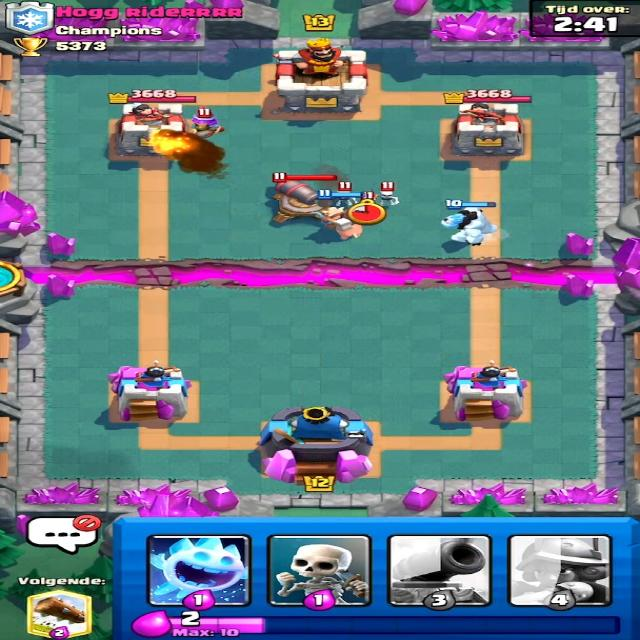Cannon_Card: (386, 534, 482, 606)
Enemy_Cannon_Troop: (256, 178, 336, 224)
Enemy_Musketeer_Troop: (180, 106, 230, 144)
Fireball_Troop: (156, 129, 194, 153)
Hog_Rider_Troop: (312, 205, 362, 240)
Ice_Golem_Troop: (435, 203, 498, 245)
Ice_Spirit_Card: (151, 538, 250, 605)
Musketeer_Card: (507, 535, 616, 607)
Skeleton_Card: (259, 532, 384, 612)
